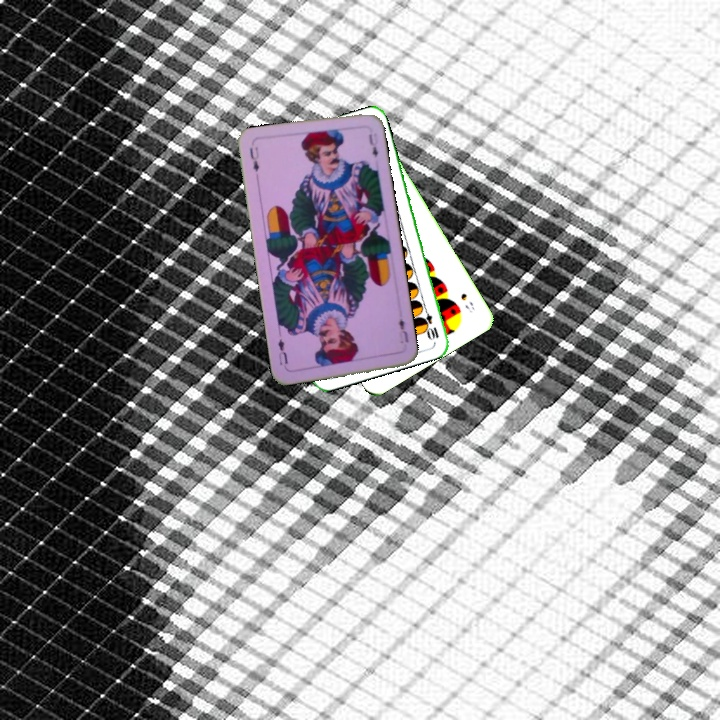E10: (419, 302, 442, 342)
EU: (246, 143, 261, 182), (395, 314, 411, 345)
S8: (456, 289, 477, 316)
